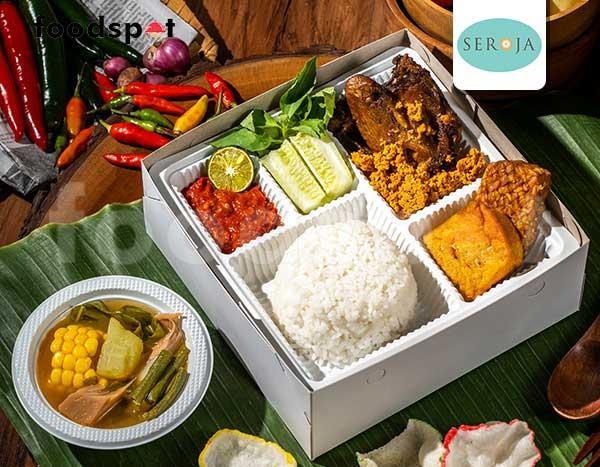buah_sayur_lainnya: (61, 315, 177, 404), (286, 127, 334, 201)
buah_sayur_vitA: (211, 202, 264, 236)
daging: (359, 86, 433, 178)
kacang_legume: (450, 224, 503, 279), (491, 166, 538, 205)
makanan_berpati: (300, 235, 393, 327)
